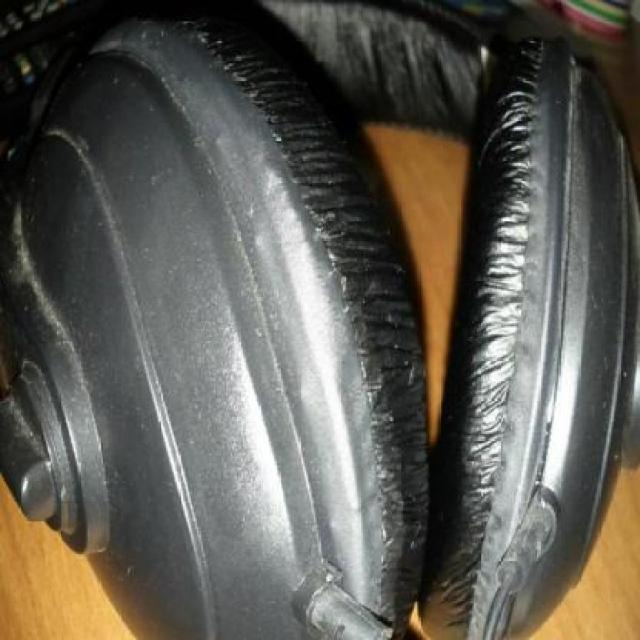earphone: (18, 12, 622, 640)
